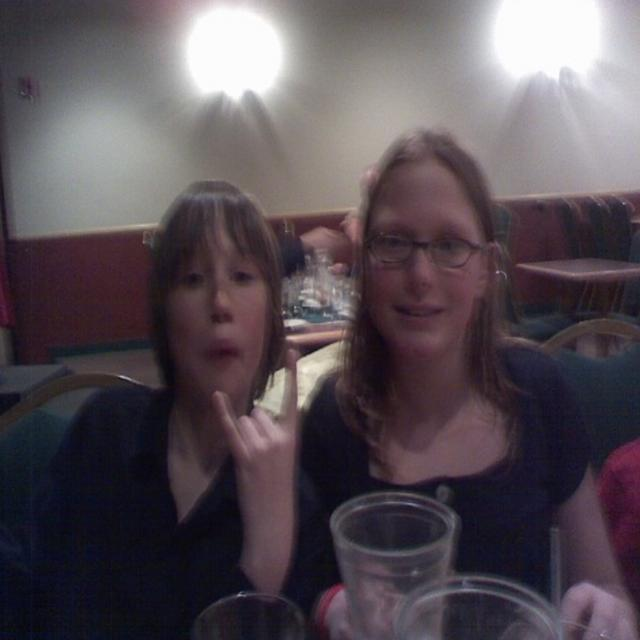Glasses: (361, 226, 486, 275)
